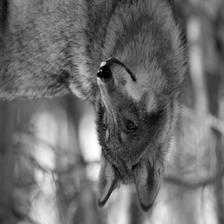WOLF: (0, 0, 184, 212)
